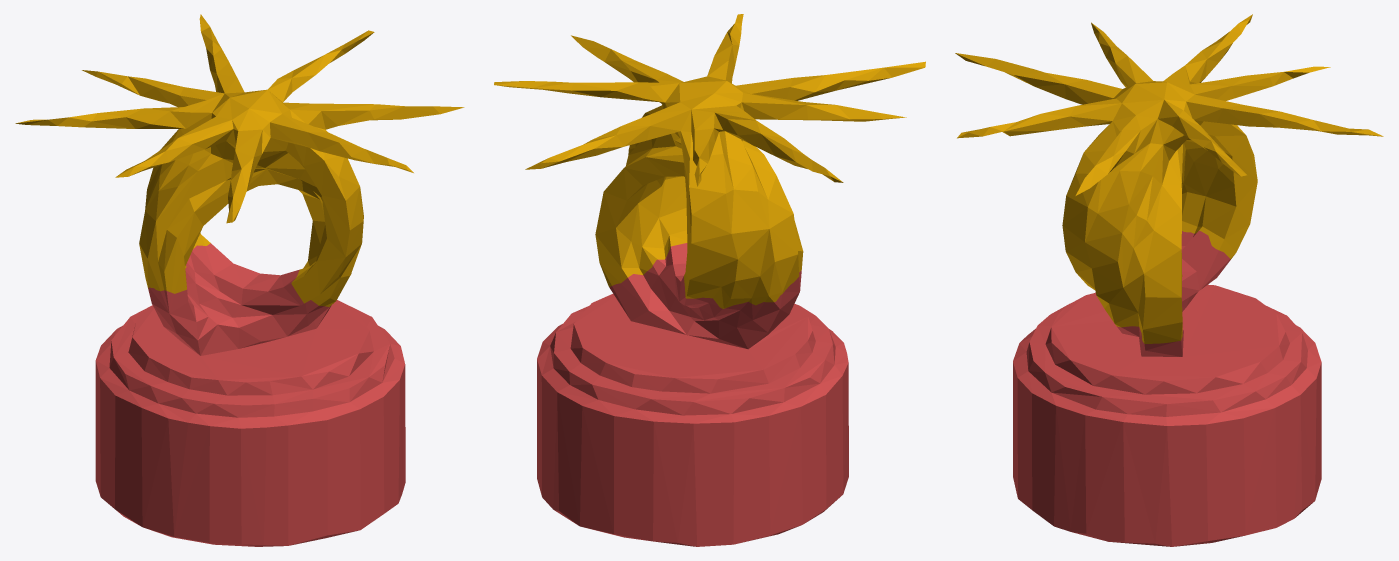
The model's file is fractured_72_2pcs.glb.
3 views of the same model, side by side, from view 1: azimuth 30°, elevation 25°; view 2: azimuth 150°, elevation 25°; view 3: azimuth 270°, elevation 25° (orthographic).
Visible parts, largest first — view 1: piece_1.obj, piece_0.obj; view 2: piece_1.obj, piece_0.obj; view 3: piece_1.obj, piece_0.obj.
Boxes of the visible parts, box(x1,y1,x2,y2) form: piece_1.obj: box(95, 243, 405, 546); piece_0.obj: box(15, 14, 464, 306); piece_1.obj: box(537, 243, 848, 546); piece_0.obj: box(494, 14, 925, 308); piece_1.obj: box(1013, 230, 1321, 546); piece_0.obj: box(955, 14, 1383, 343).
Size of the model in its own units: 0.9659 by 1 by 0.9985.
